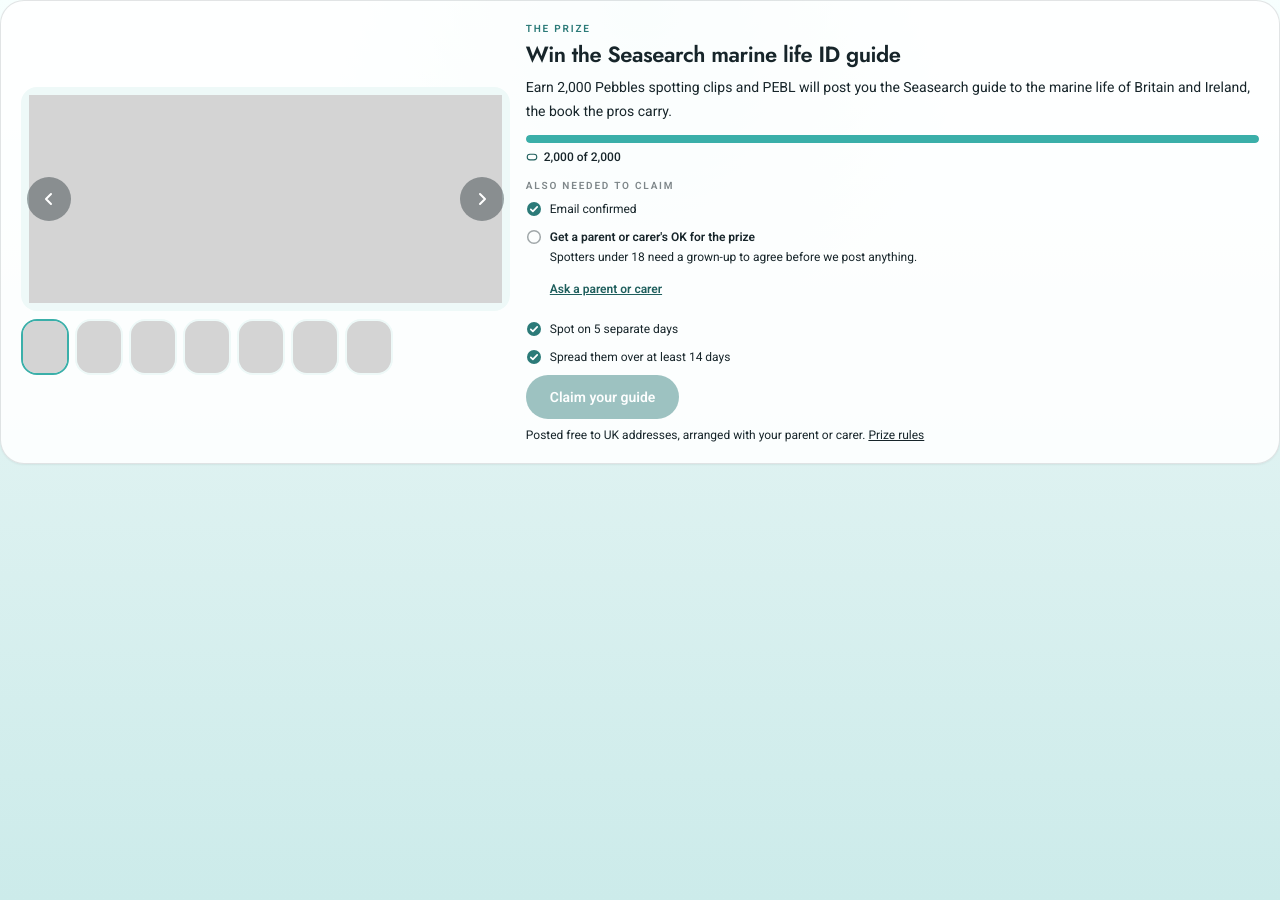
Test: PrizeCard › sends an under-18 to a parent, shows the request went, and offers to resend
Expected: the button "Claim your guide" is disabled, [526, 375, 679, 419]
Click the button "Ask a parent or carer" at (606, 289), box [550, 267, 662, 311]
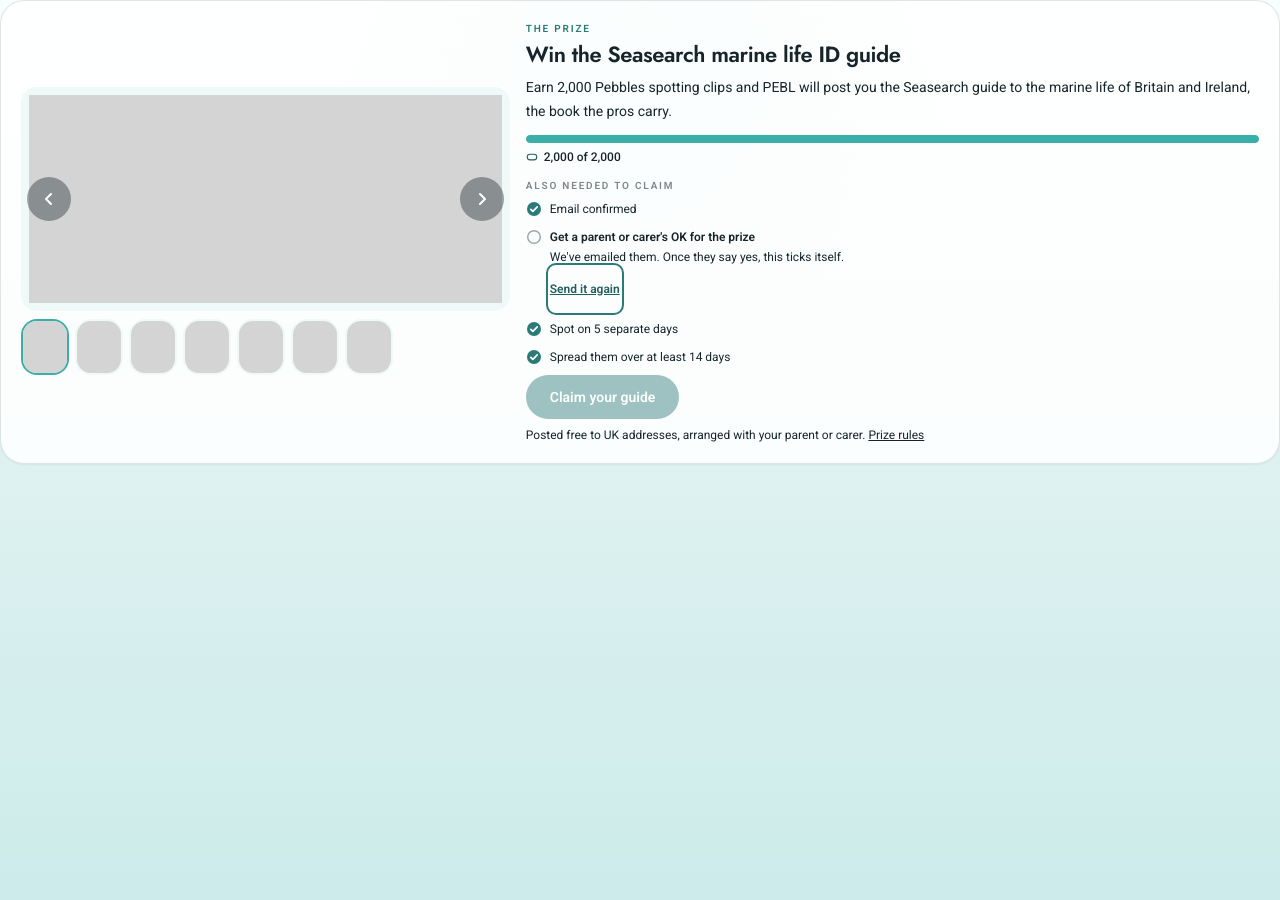
Now the text "We've emailed them. Once they say yes, this ticks itself." is shown, box [550, 250, 844, 264]
Now the button "Send it again" is shown, box [550, 267, 620, 311]
